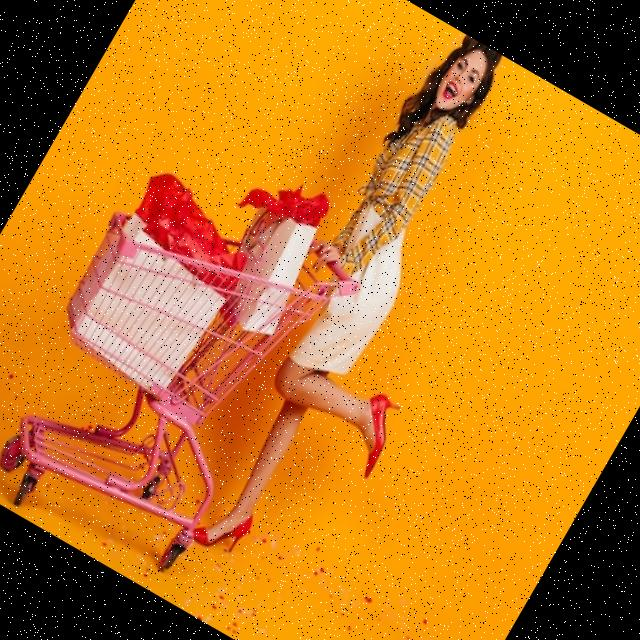Person: (155, 20, 582, 598)
